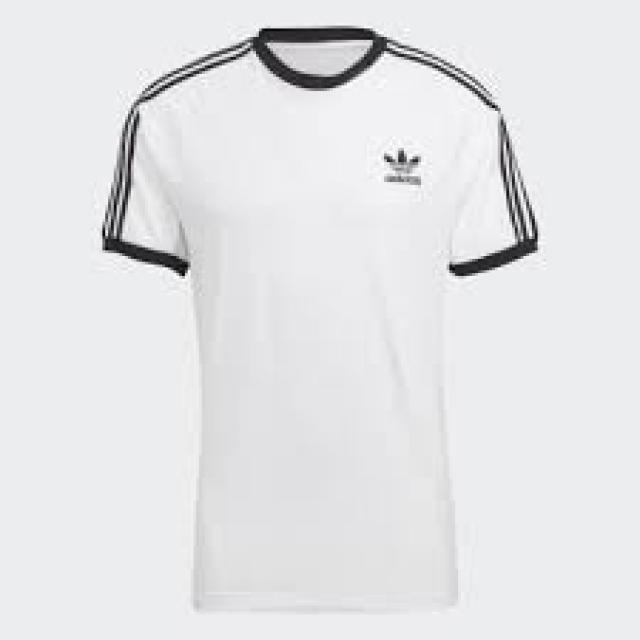Adidas: (379, 149, 428, 190)
